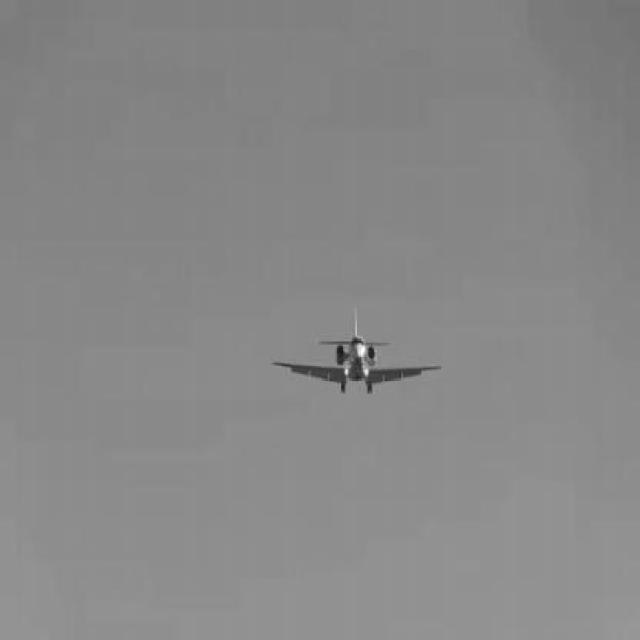aeroplane: (271, 312, 445, 398)
